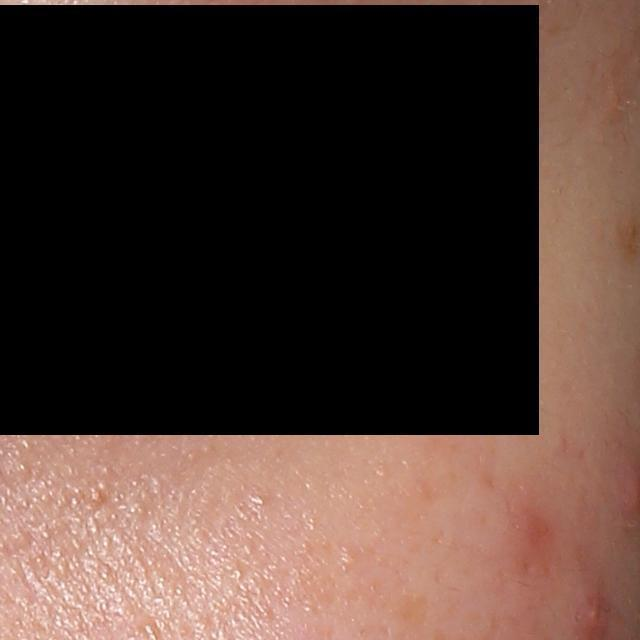papule: (575, 589, 609, 640)
